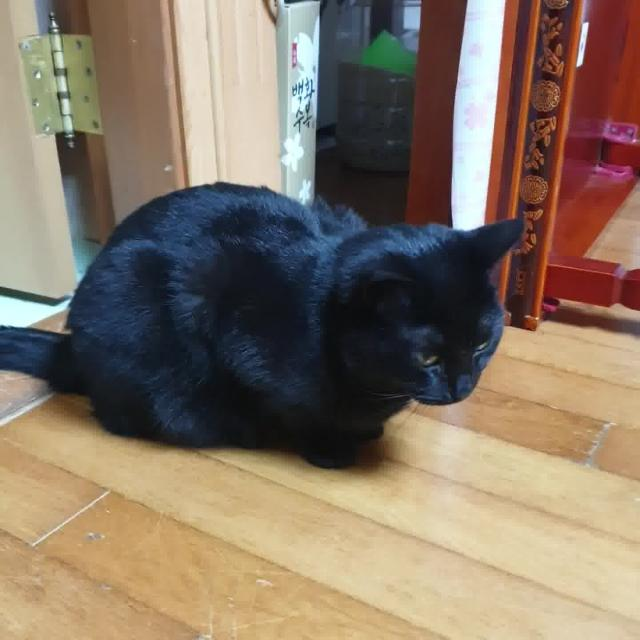cat: (0, 172, 537, 476)
